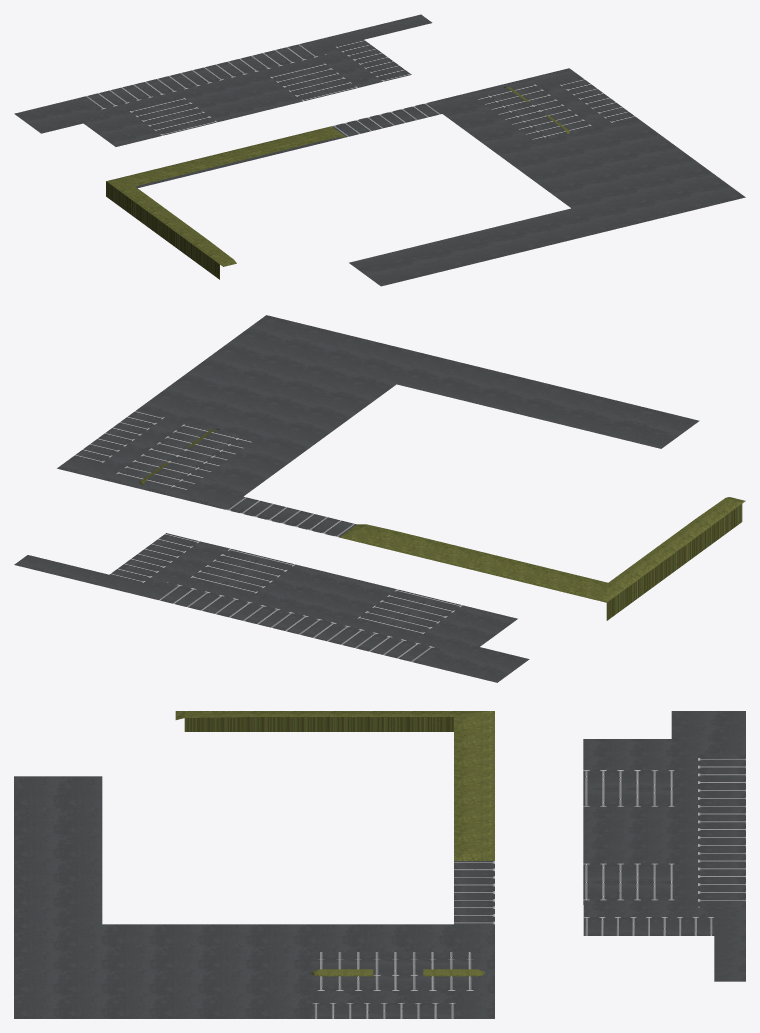
Rendered from vegasnedge13.obj.
3 renders of one model, top to bottom at view 1: azimuth 30°, elevation 25°; view 2: azimuth 150°, elevation 25°; view 3: azimuth 270°, elevation 25°, orthographic. The views are drawn at different scales.
Parts seen in each view (by area): view 1: VegasNedge13; view 2: VegasNedge13; view 3: VegasNedge13.
Boxes of the visible parts, x1,y1,x2,y2 form: VegasNedge13: (14, 14, 745, 286); VegasNedge13: (14, 315, 745, 682); VegasNedge13: (14, 711, 745, 1018).
Bounding box in the file's own units: 165 × 6.15 × 166.
3 materials, 3 textured.
